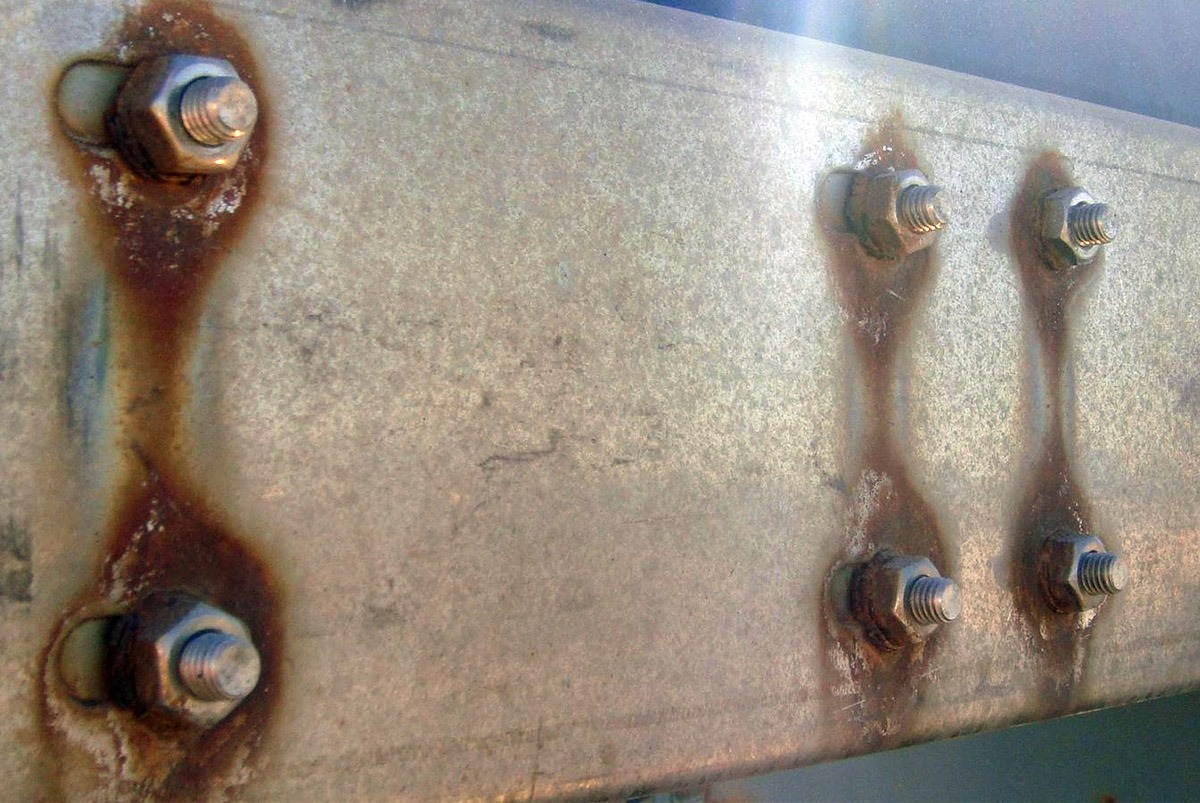Low: (36, 9, 296, 793), (804, 107, 982, 707), (999, 143, 1140, 656)
